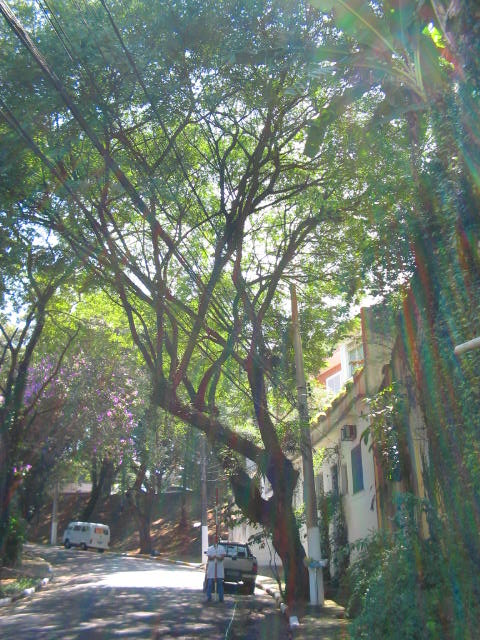crown: (15, 3, 427, 311)
stem: (247, 514, 321, 604)
stick: (208, 485, 220, 602)
tree: (13, 1, 427, 606)
